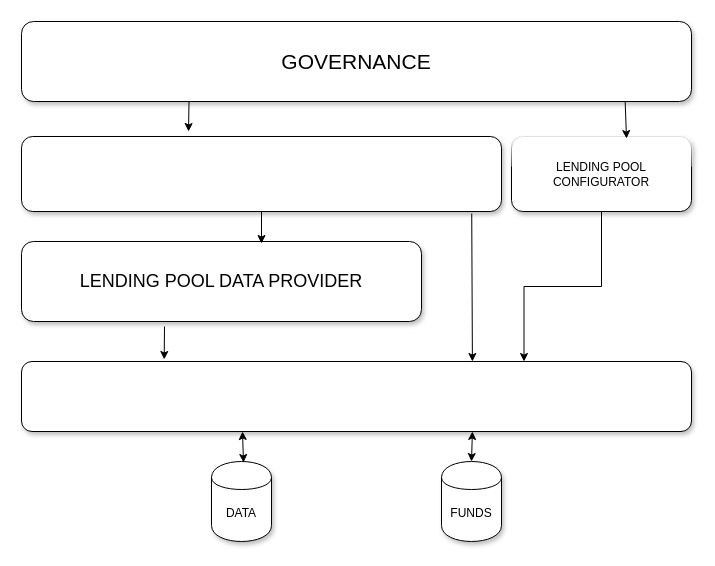
Image size: 715x566. Some labels were removed from this diagram. The centre of each missing label's shape, as x and y in pixels:
LENDING POOL: (262,175)
LENDING POOL CORE: (357,397)
